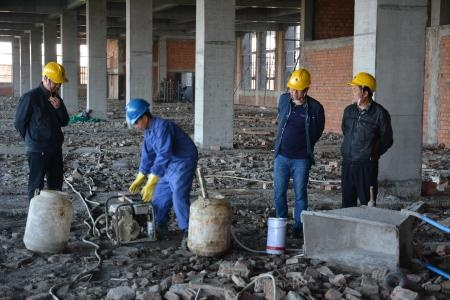blue: (126, 99, 151, 131)
yellow: (286, 66, 311, 101), (43, 60, 66, 93), (350, 72, 375, 101)
